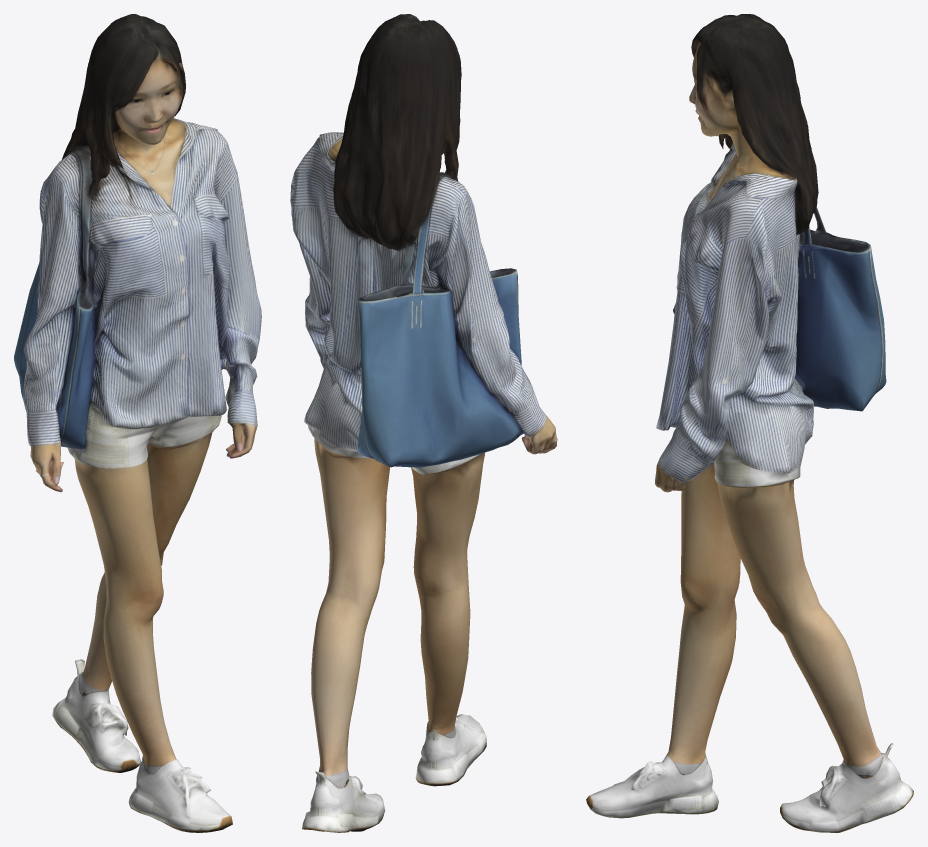
File: woman.glb
3 views of the same model, side by side, from view 1: azimuth 30°, elevation 25°; view 2: azimuth 150°, elevation 25°; view 3: azimuth 270°, elevation 25° (orthographic). The views are drawn at different scales.
Parts seen in each view (by area): view 1: Object_2; view 2: Object_2; view 3: Object_2.
Part boxes in pixels (x1,y1,x2,y2): Object_2: (14, 14, 261, 832); Object_2: (290, 14, 557, 832); Object_2: (586, 14, 913, 832).
Bounding box in the file's own units: 547 × 1716 × 640.
1 material, 1 textured.
